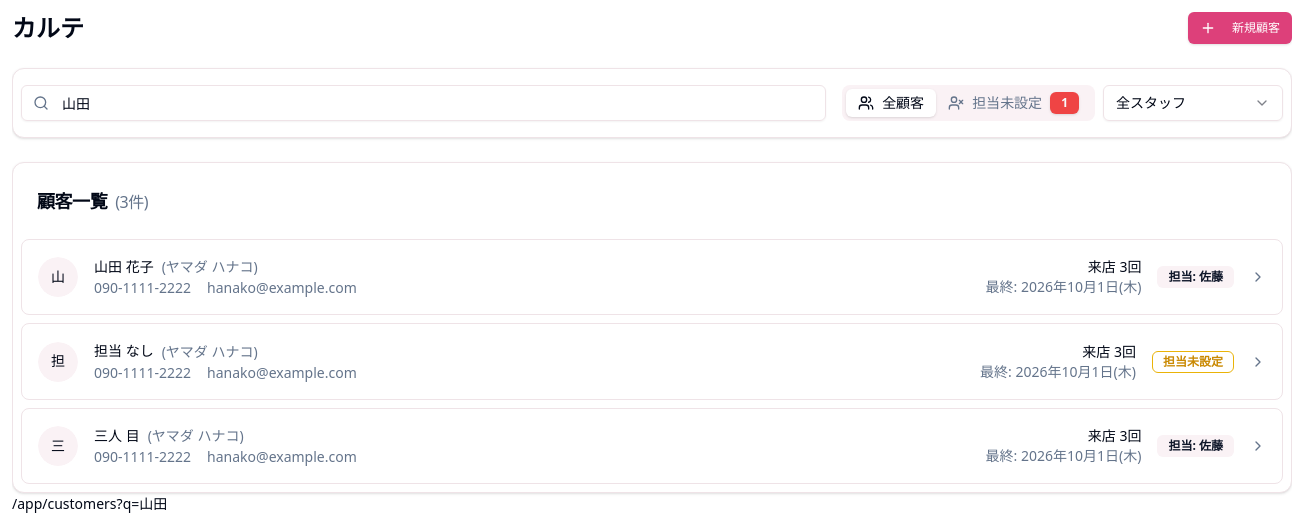
Test case: 顧客管理 list › lists the shop's customers under the カルテ heading, all at once, and opens a customer
The width and height of the screenshot is (1304, 530).
Expected: the heading "カルテ" is shown, 12,12 -> 84,44
Expected: the field with placeholder "名前、電話番号で検索..." holds "山田", 21,85 -> 826,121
Click the tab "担当 未設定 1".
click(1014, 103)  # box 936,88 -> 1091,118
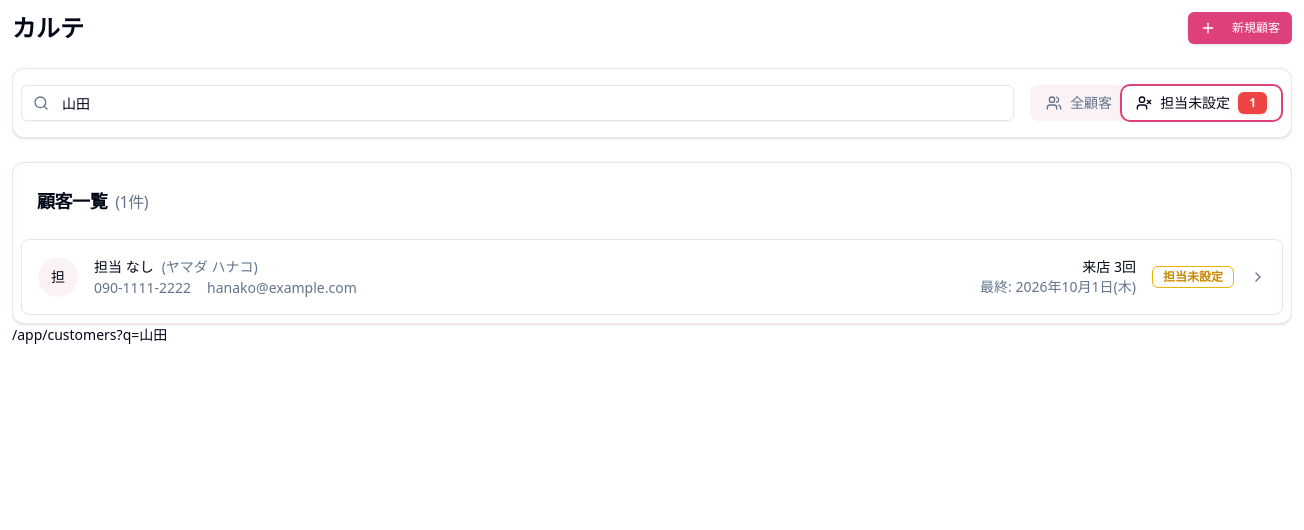
Click the element that starts with "担当 なし".
click(652, 277)  # box 21,239 -> 1283,315
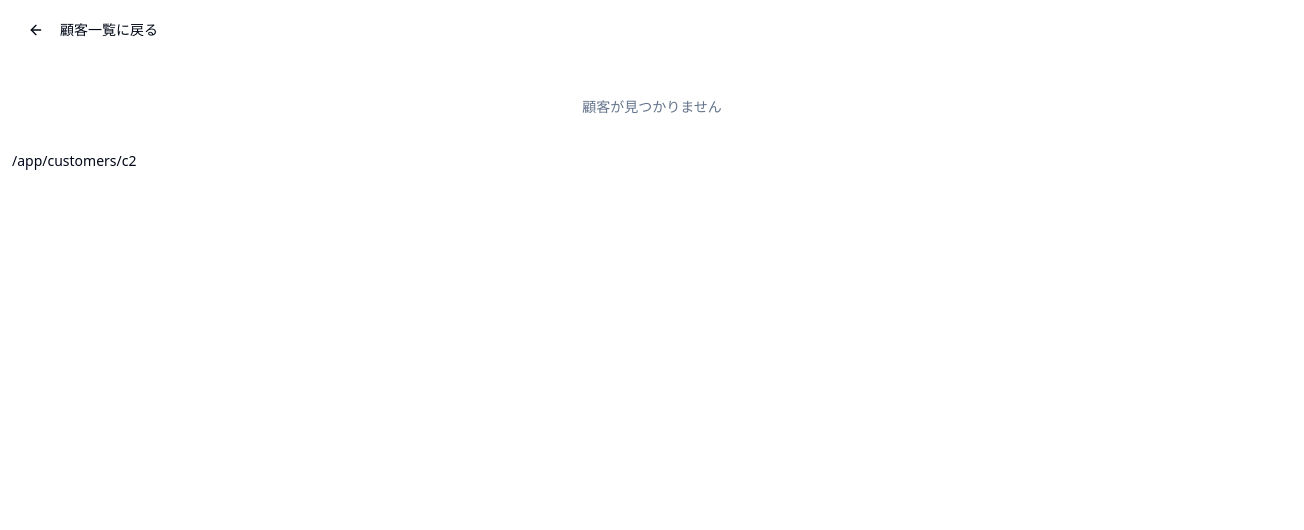
Expected: the text with test id "where" reads "/app/customers/c2", 12,151 -> 136,170
